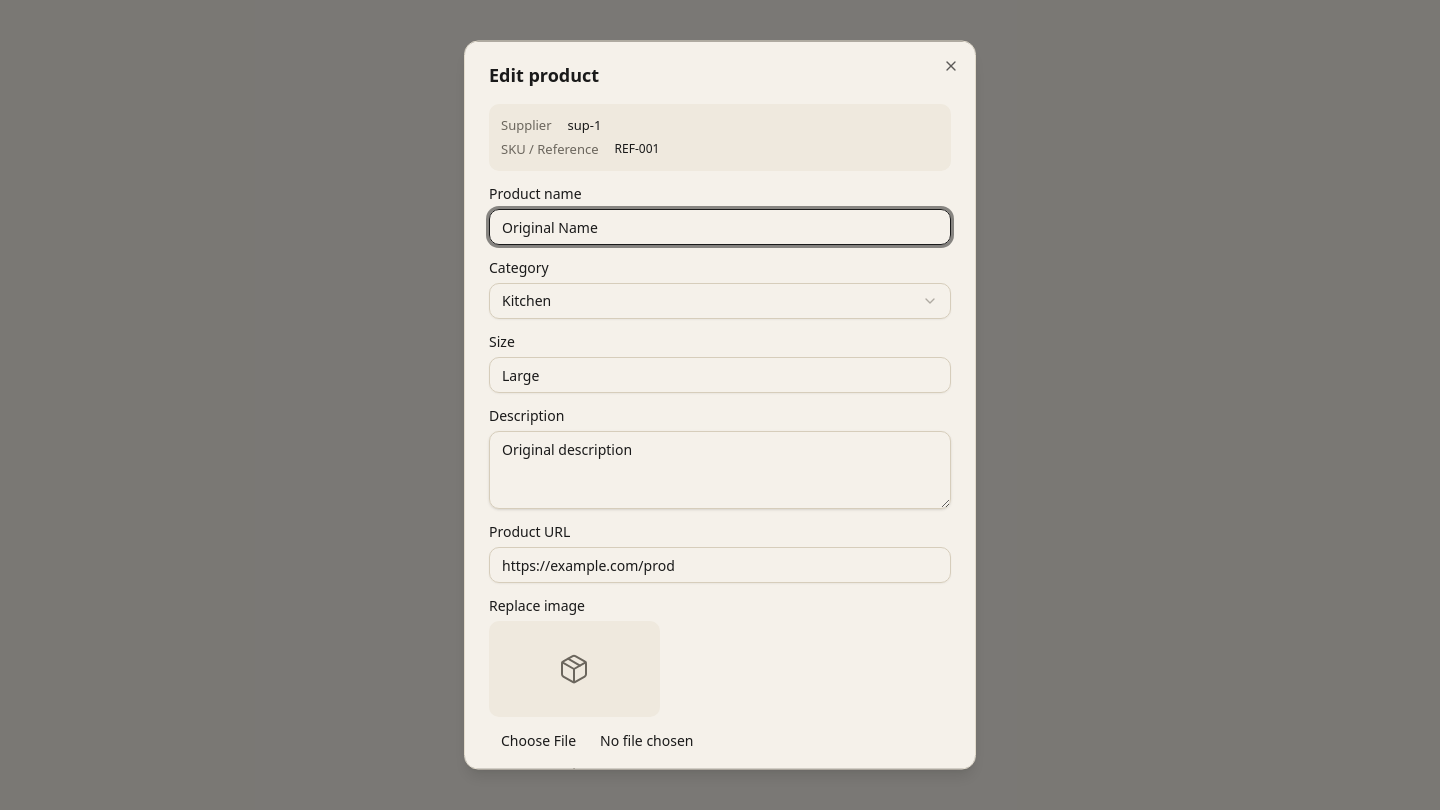
Test: ProductEditDialog › shows inline error and error toast when update fails
The width and height of the screenshot is (1440, 810).
Replace the text in the field labelled "Product name" with "Changed" at (720, 226), box [489, 208, 951, 244]
(page scrolled)
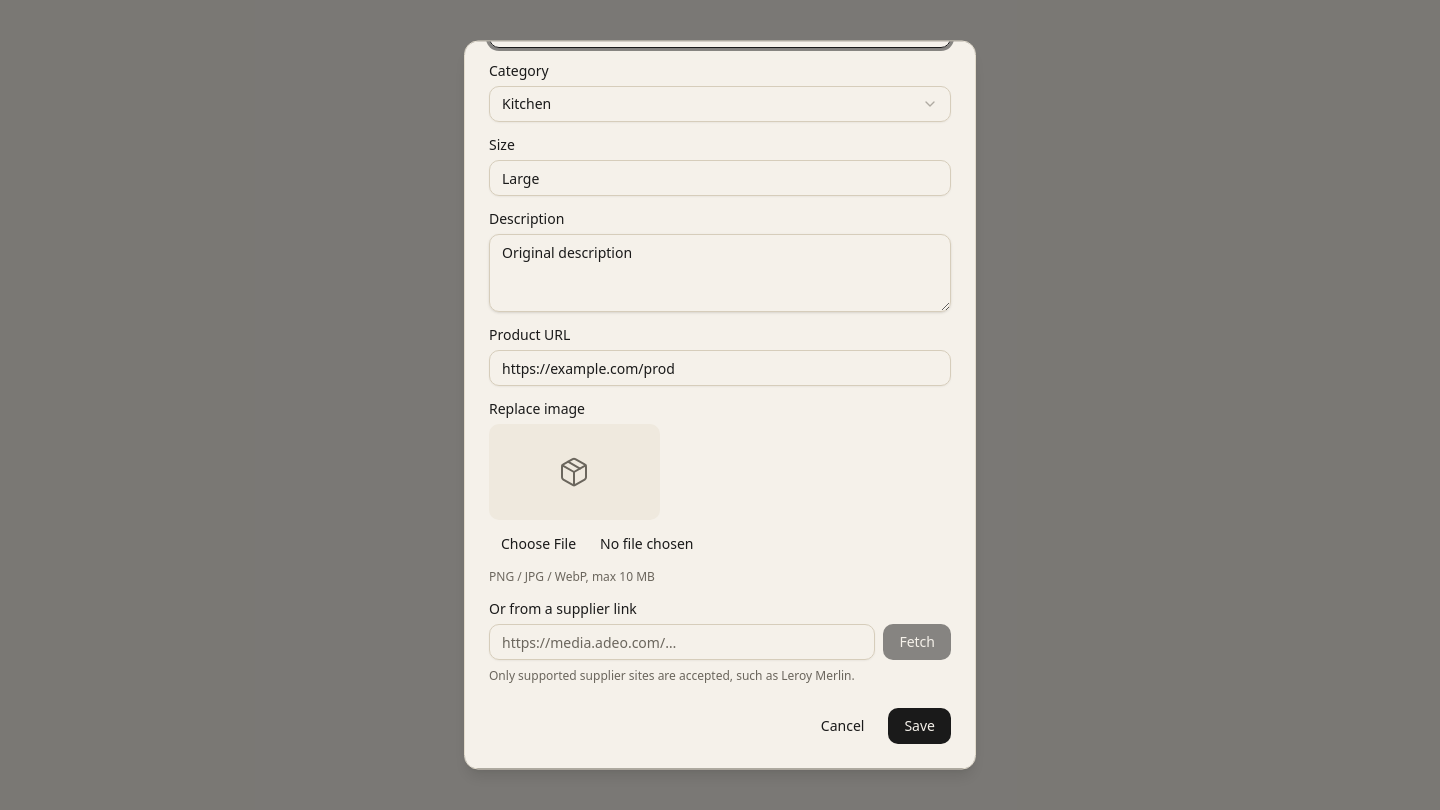
Click the button "Save" at (920, 726), box [888, 708, 951, 744]
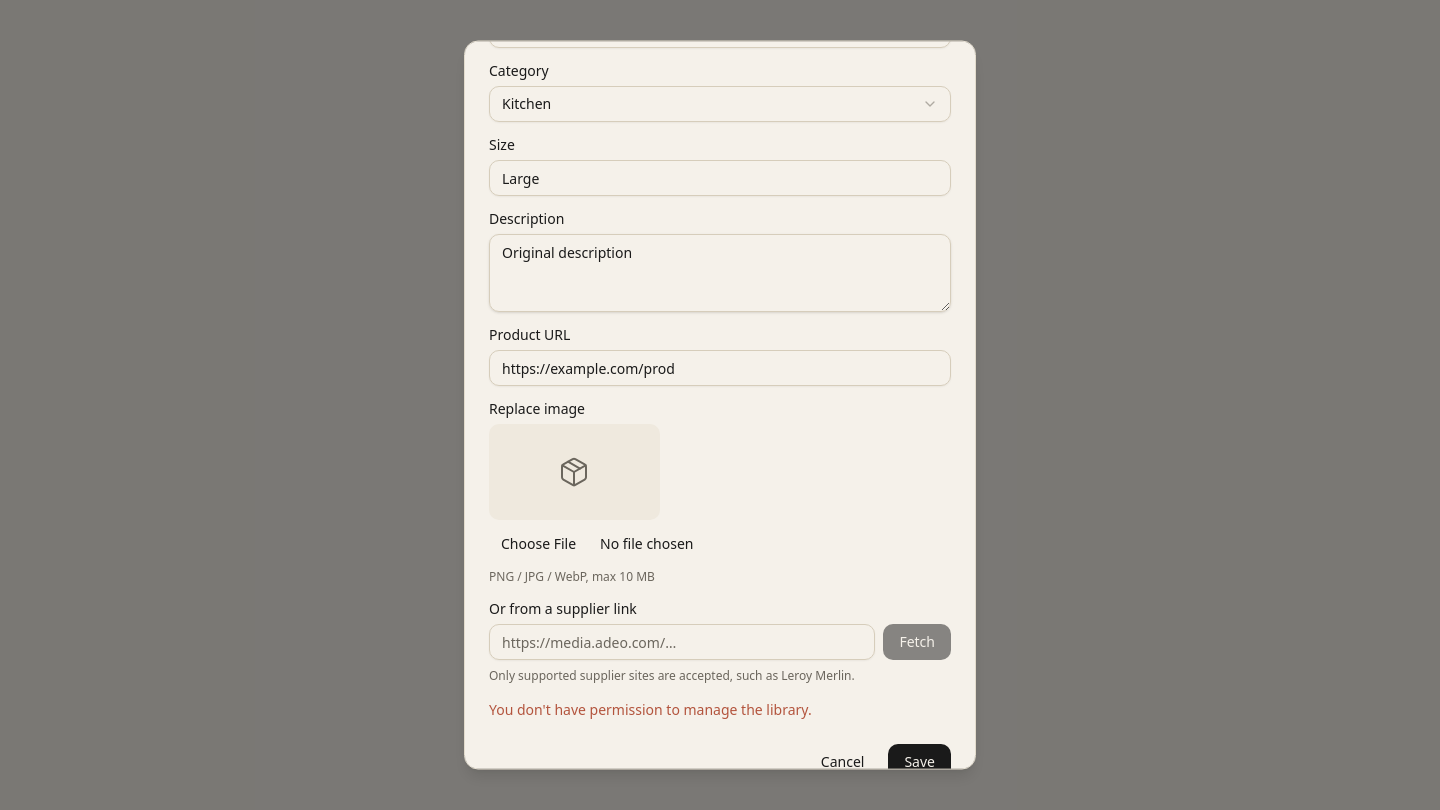
Result: the text "You don't have permission to manage the library." is shown at [489, 700, 812, 720]
